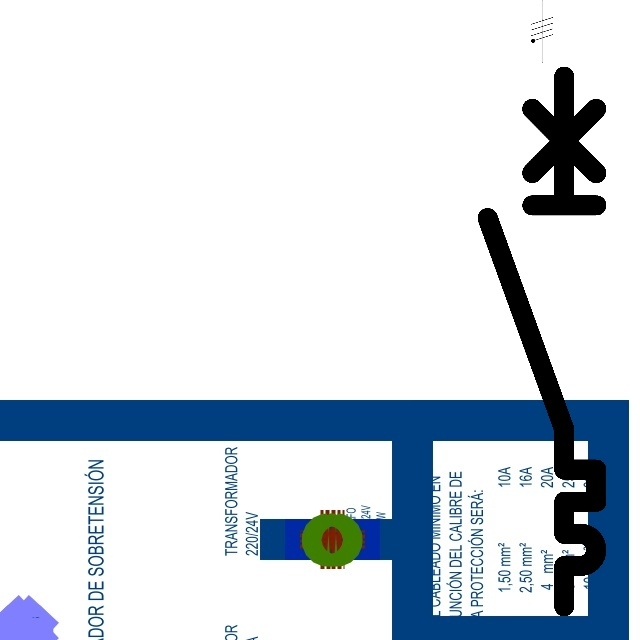interruptor_termomagnetico: (474, 63, 610, 620)
